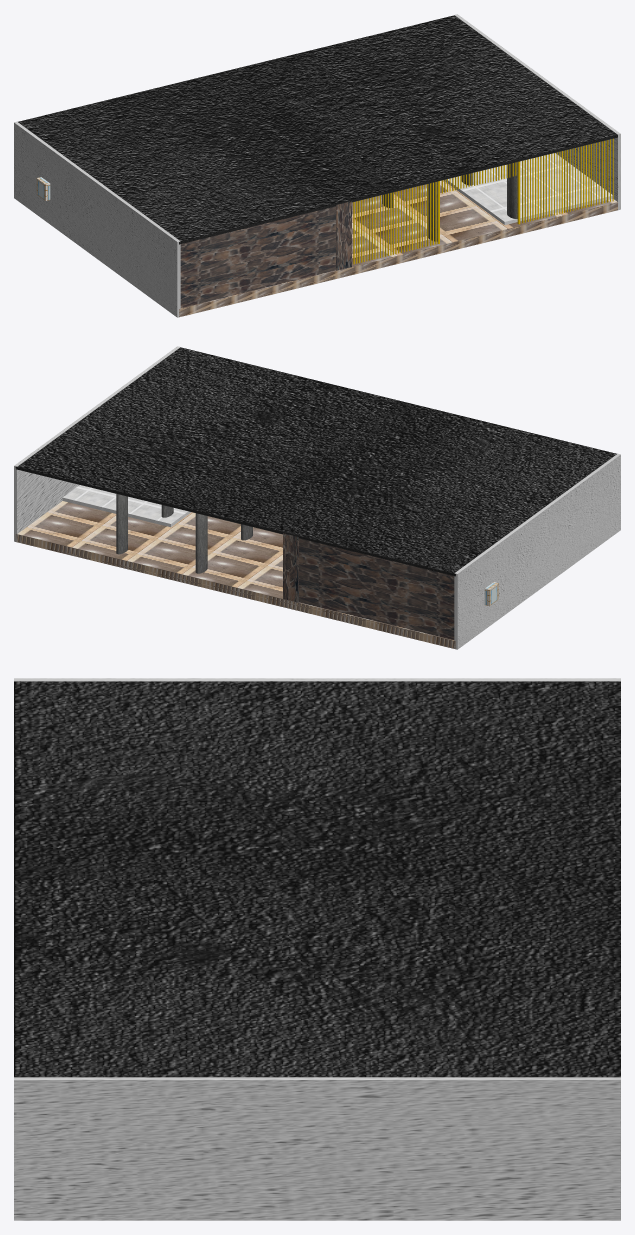
File: conjunto_norte.obj
The picture shows the model from 3 angles, top to bottom: view 1: azimuth 30°, elevation 25°; view 2: azimuth 150°, elevation 25°; view 3: azimuth 270°, elevation 25°; orthographic projection. The views are drawn at different scales.
Parts seen in each view (by area): view 1: Cube.007, Cube.009, piso, Cube.003, Cube.008, Cube.010, Cube.001, Cylinder.006, Cylinder; view 2: Cube.007, piso, Cube.009, Cube.004, Cube.010, Cube.008, Cube.002, Cylinder.003, Cylinder.009; view 3: Cube.007, Cube.010, Cube.009.
Part boxes in pixels (box(x1,y1,x2,y2)): Cube.007: box(18, 15, 617, 244); Cube.009: box(14, 121, 180, 317); piso: box(179, 180, 617, 316); Cube.003: box(180, 206, 335, 307); Cube.008: box(443, 153, 612, 224); Cube.010: box(454, 14, 620, 210); Cube.001: box(336, 201, 351, 270); Cylinder.006: box(507, 162, 517, 218); Cylinder: box(428, 181, 437, 241); Cube.007: box(15, 347, 616, 576); piso: box(15, 501, 455, 648); Cube.009: box(454, 453, 620, 649); Cube.004: box(299, 538, 454, 639); Cube.010: box(14, 346, 180, 541); Cube.008: box(62, 485, 191, 527); Cube.002: box(283, 533, 298, 602); Cylinder.003: box(195, 513, 207, 573); Cylinder.009: box(116, 494, 127, 554); Cube.007: box(14, 681, 620, 1077); Cube.010: box(14, 1077, 620, 1220); Cube.009: box(14, 678, 620, 681).
Size of the model in its own units: 57 by 9.2 by 36.
